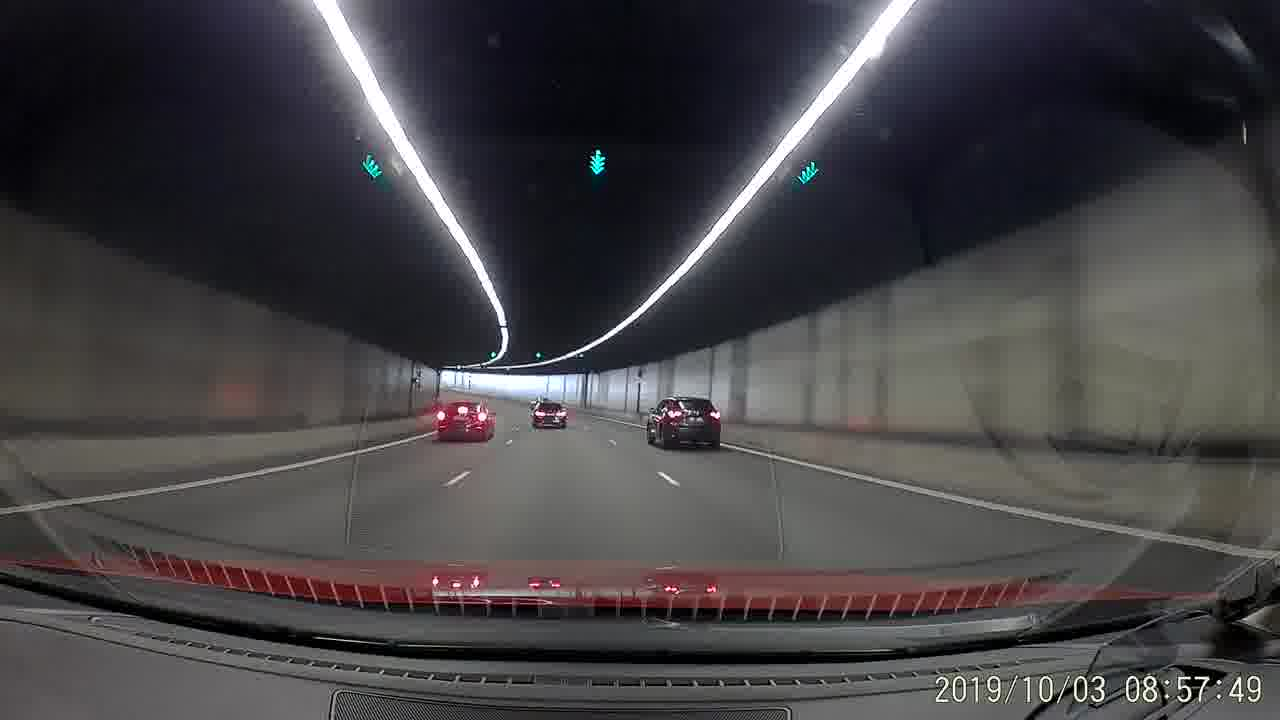car: (642, 395, 723, 450), (437, 398, 498, 443), (529, 398, 568, 432)
